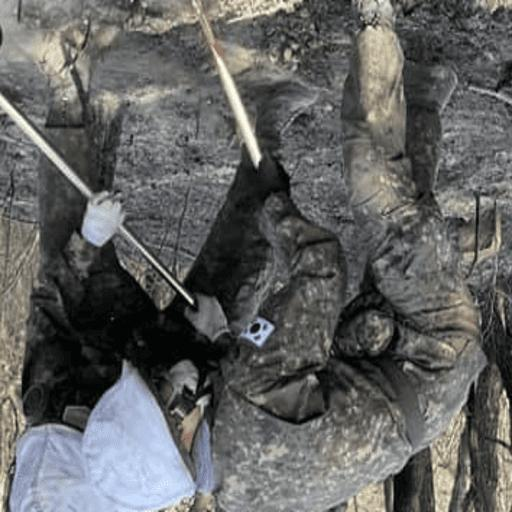korea army: (3, 8, 498, 508)
